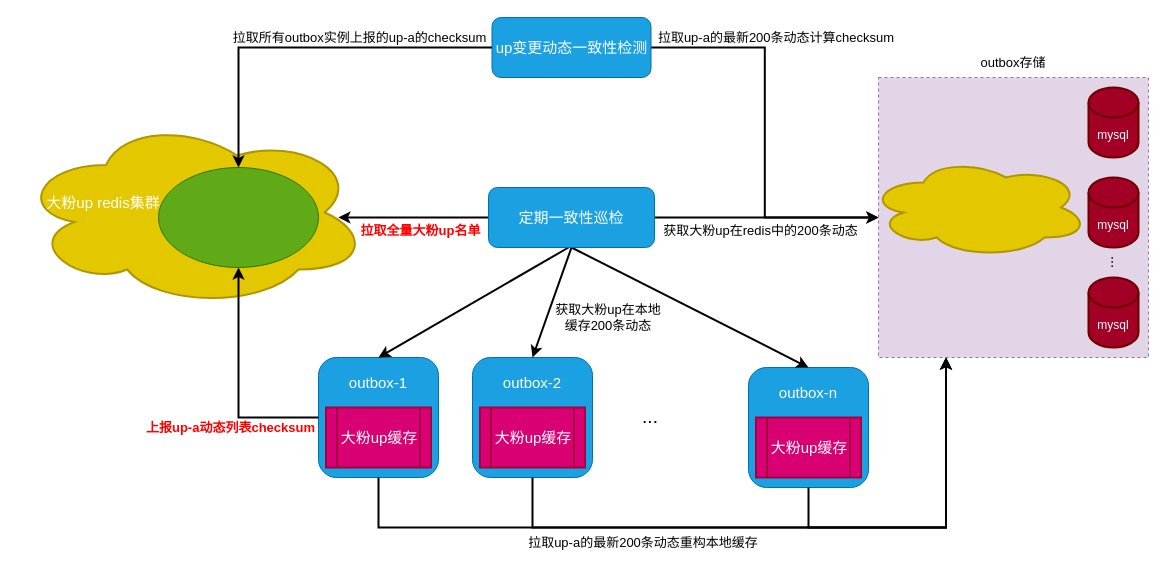
This 1166x570 diagram has some shape labels left out. Each missing label, with the centre of its shape:
"checksum:<up-a> 1 ck1 2 ck2 n ckn" goes at [238,217].
"outbox-feed redis集群" goes at [978,207].
